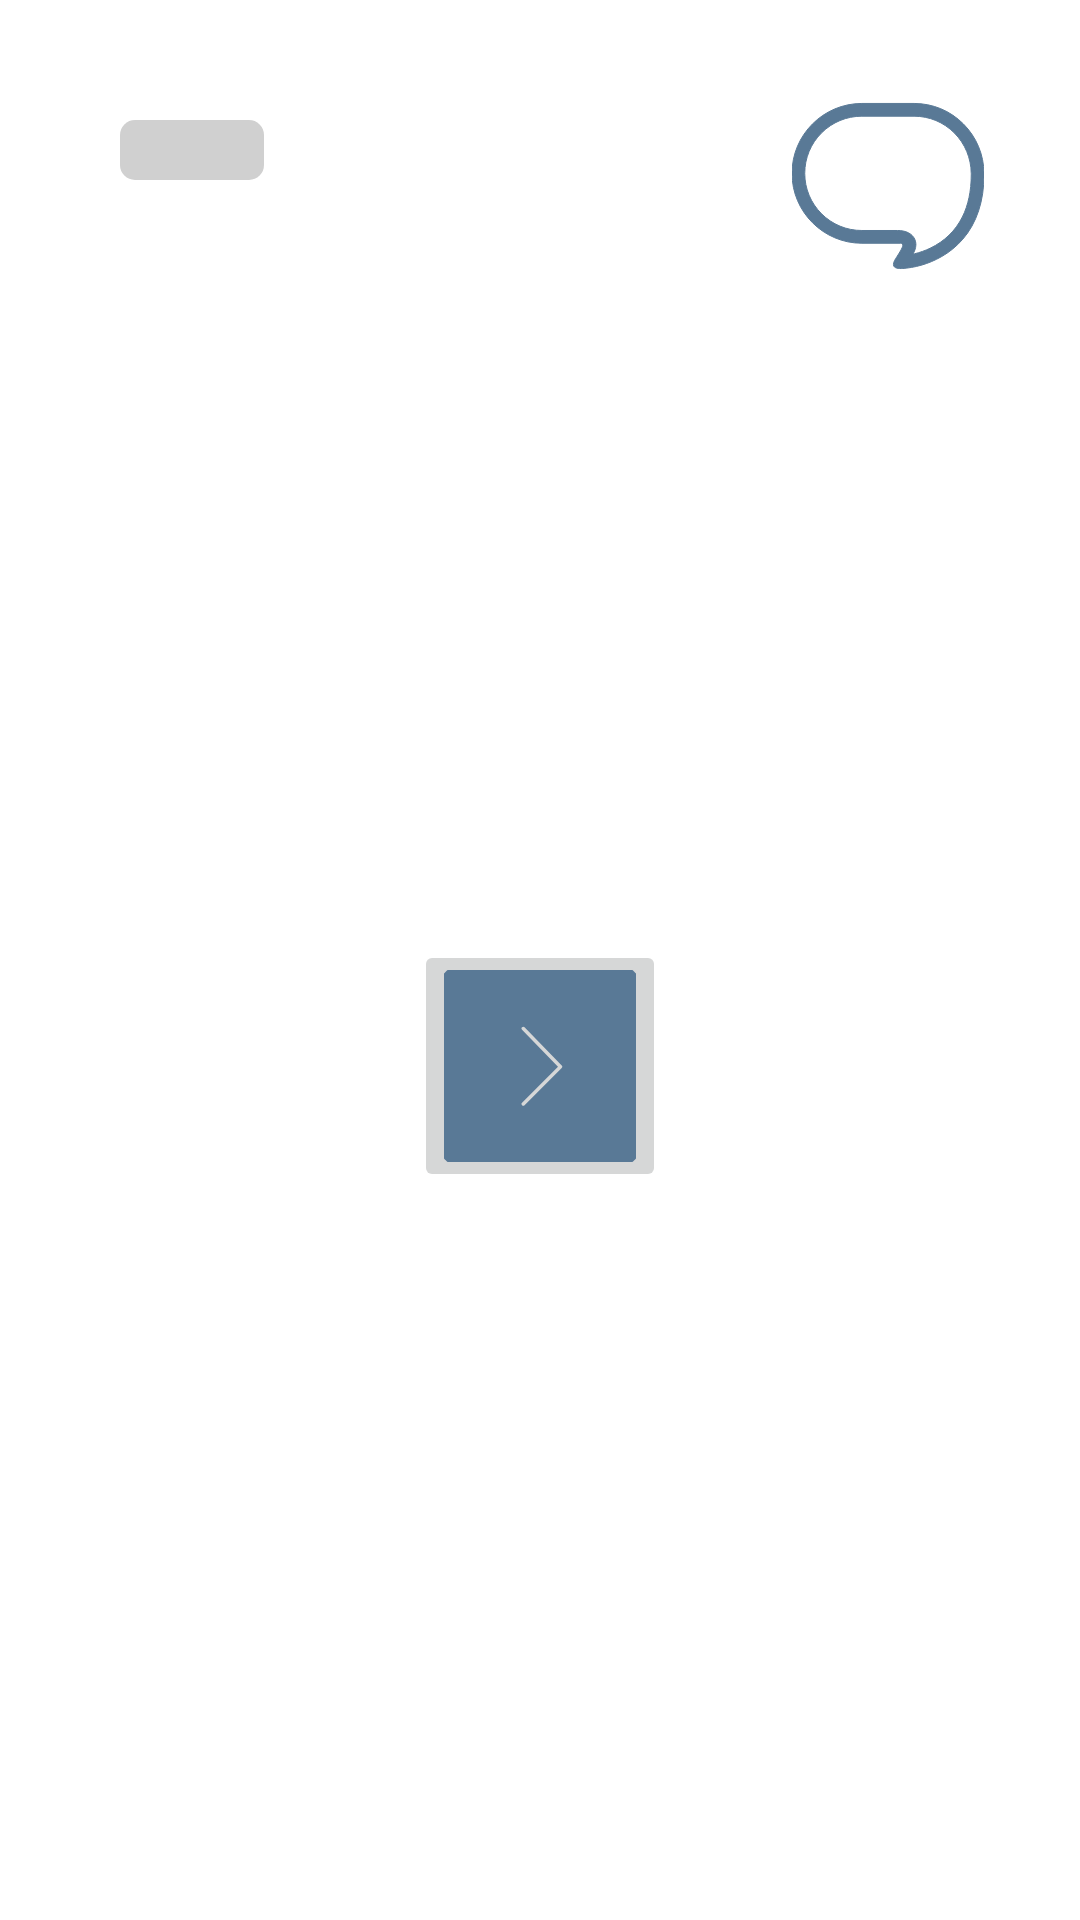

Icon bounding boxes for this 1080x1920 phone screenshot, format (x1, y1, x2, y2):
siguiente: (426, 958, 654, 1174)
